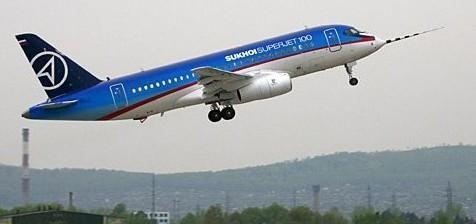airplane: (14, 12, 446, 138)
